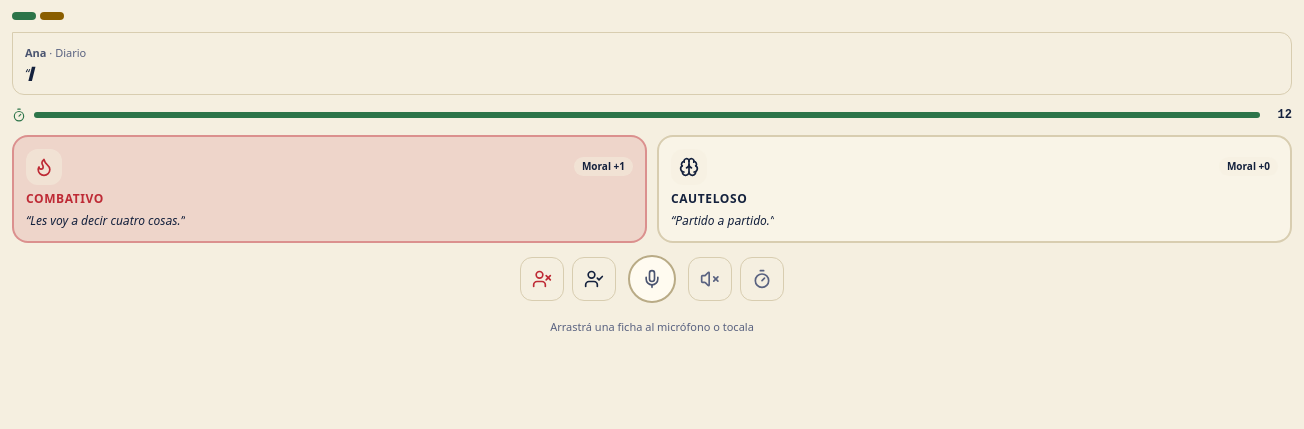
sala de prensa relámpago › la última pregunta ofrece terminar la conferencia
Click the button "Moral +0 Cauteloso “Partido a partido.”" at [689, 166], box [657,134,1292,243]
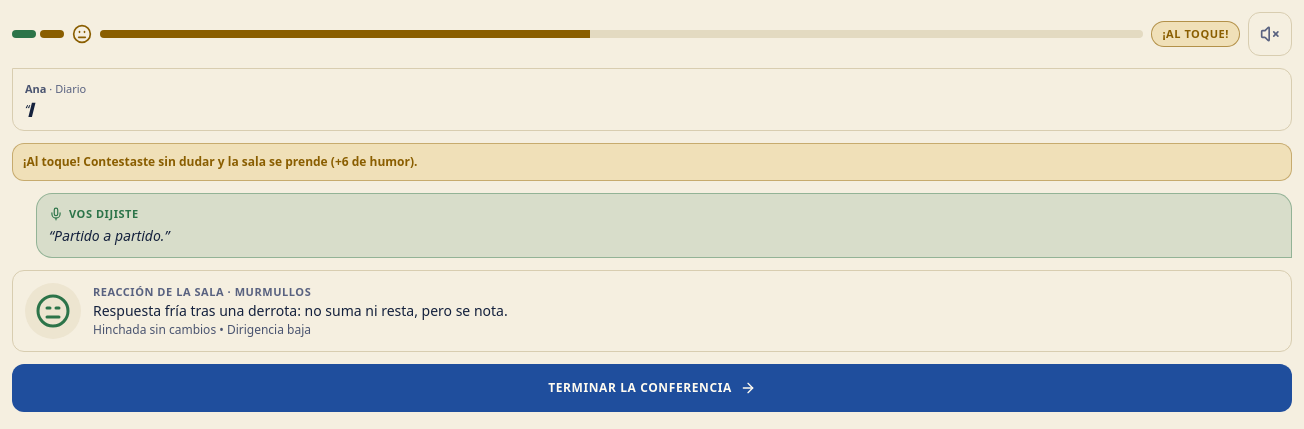
Now the button "Terminar la conferencia" is shown, box [12,364,1292,412]
